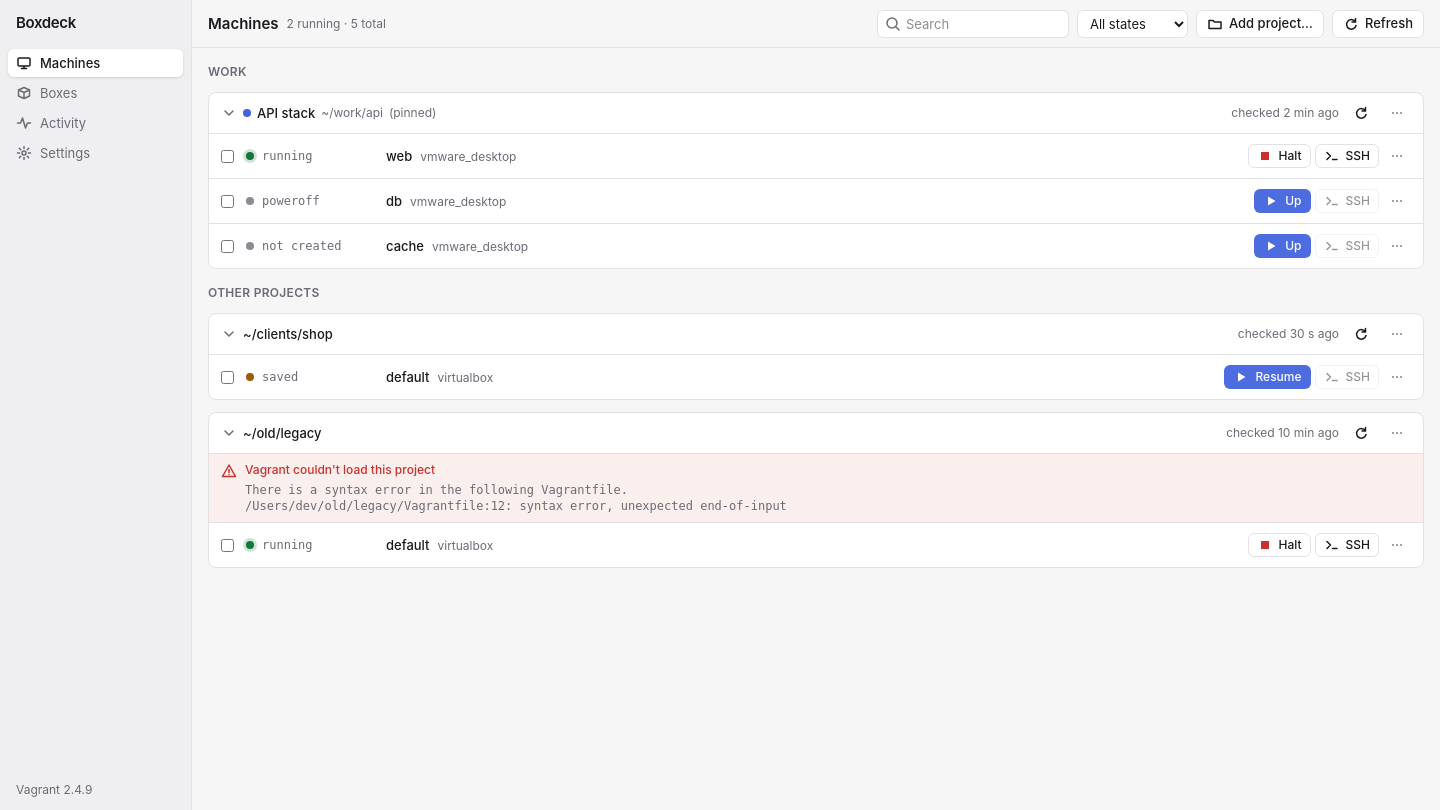
Test case: Machines › filters by state and search
Expected: the text "web" is shown, 386,148 -> 412,164
Step 1. Select "Not created" in the dropdown named "Filter by state" → (1132, 24), box 1077,10 -> 1188,38
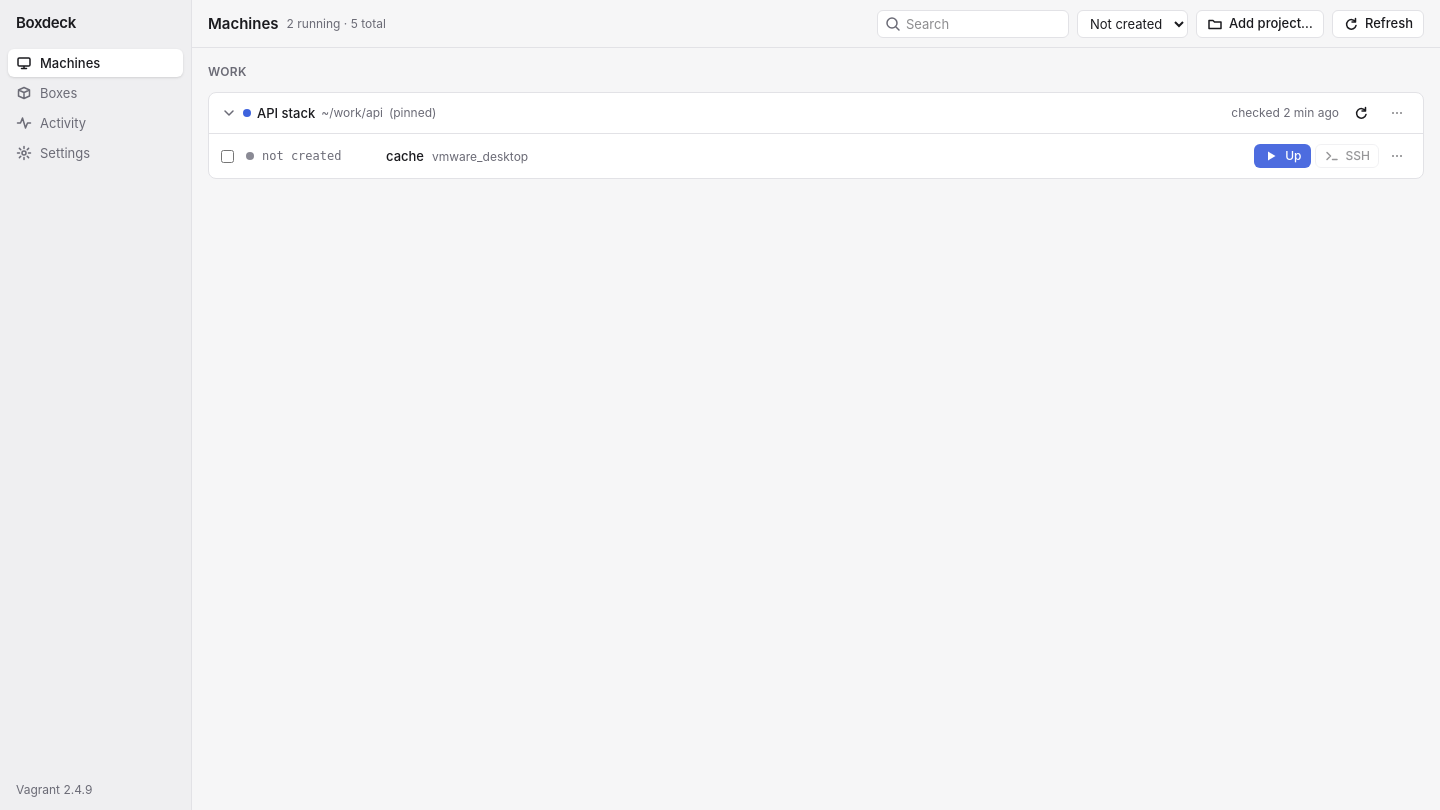
Expected: the text "cache" is shown, 386,148 -> 424,164
Expected: the text "web" is gone
Step 2. Select "All states" in the dropdown named "Filter by state" → (1132, 24), box 1077,10 -> 1188,38
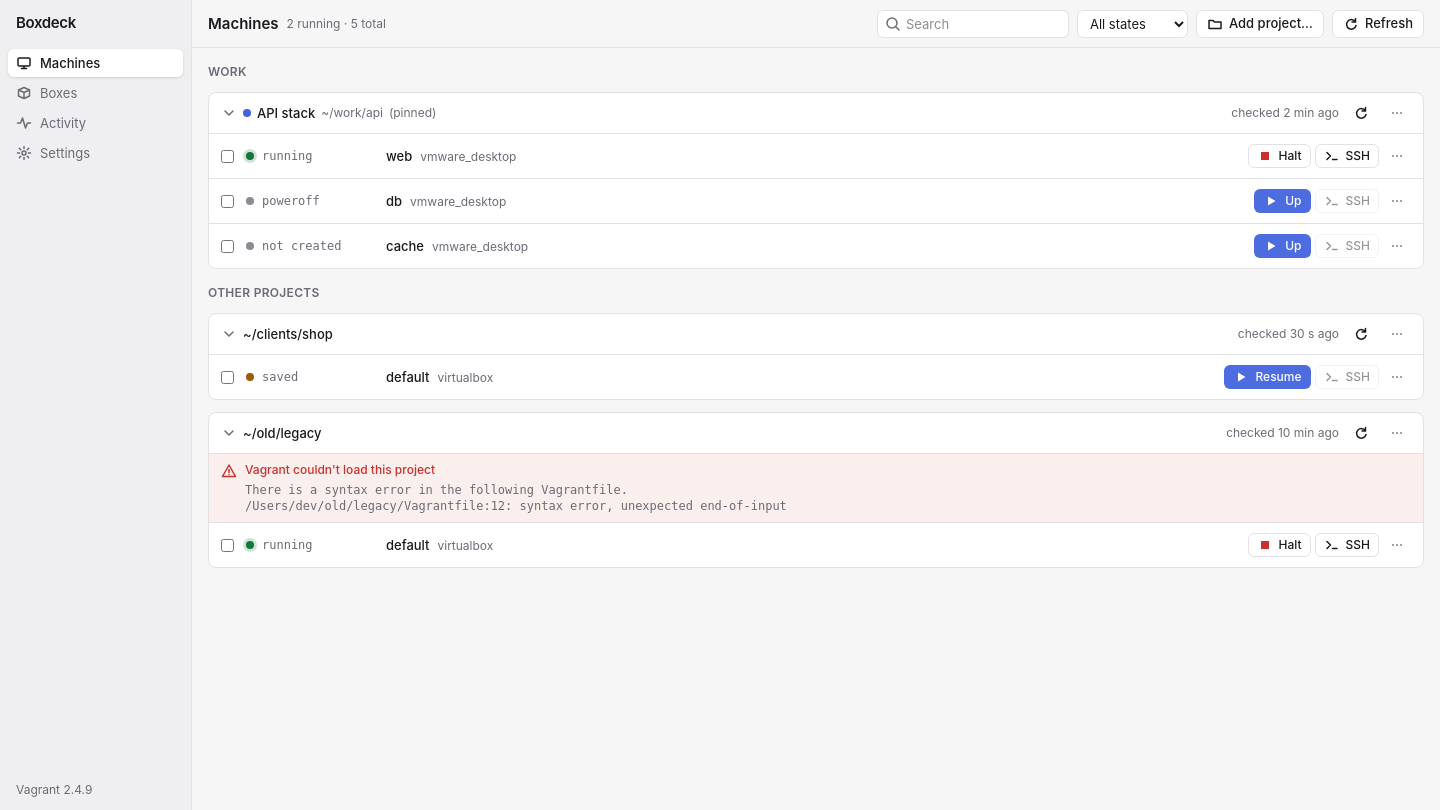
Step 3. Type "shop" into the field with placeholder "Search" → (973, 24), box 877,10 -> 1069,38
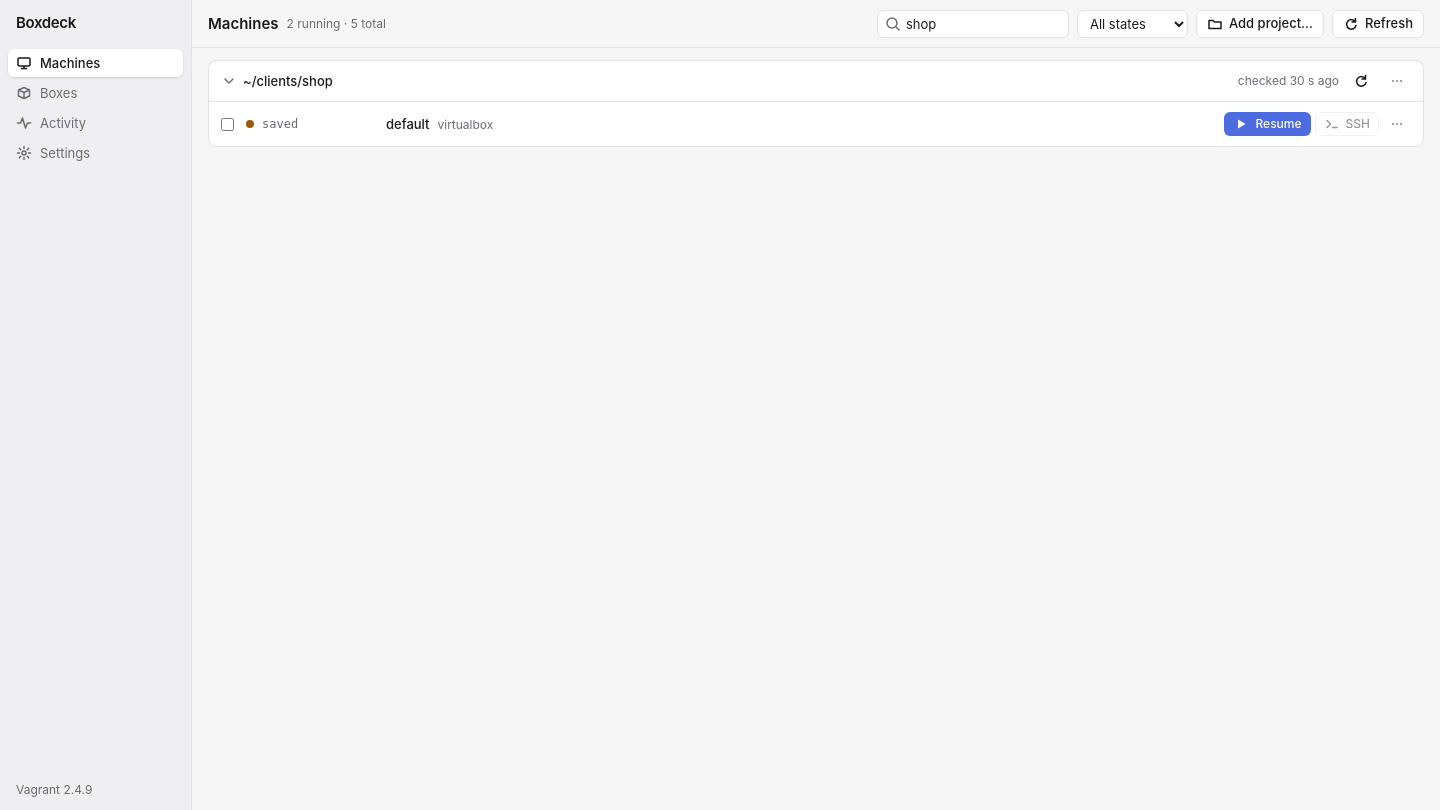
Expected: the text "~/clients/shop" is shown, 243,72 -> 333,90
Expected: the text "web" is gone
